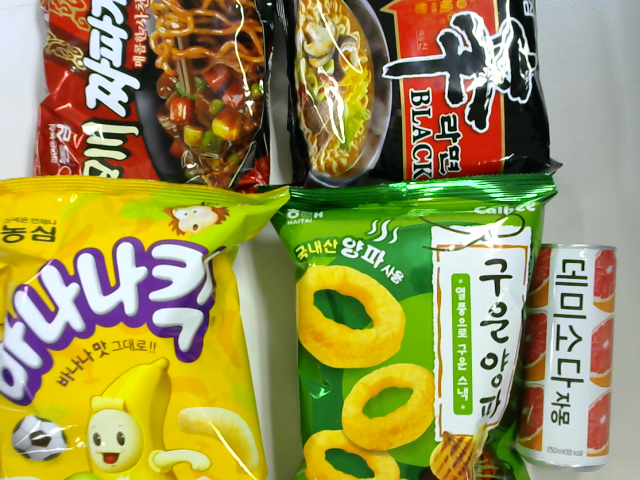Banana_Kick: (3, 176, 266, 480)
Demisoda_Grapefruit_Can_250ml: (527, 240, 615, 464)
Grilled_Onions: (281, 182, 537, 480)
Sichuan_Chapaghetti: (37, 4, 279, 198)
Sinramen_Black: (283, 4, 555, 194)
